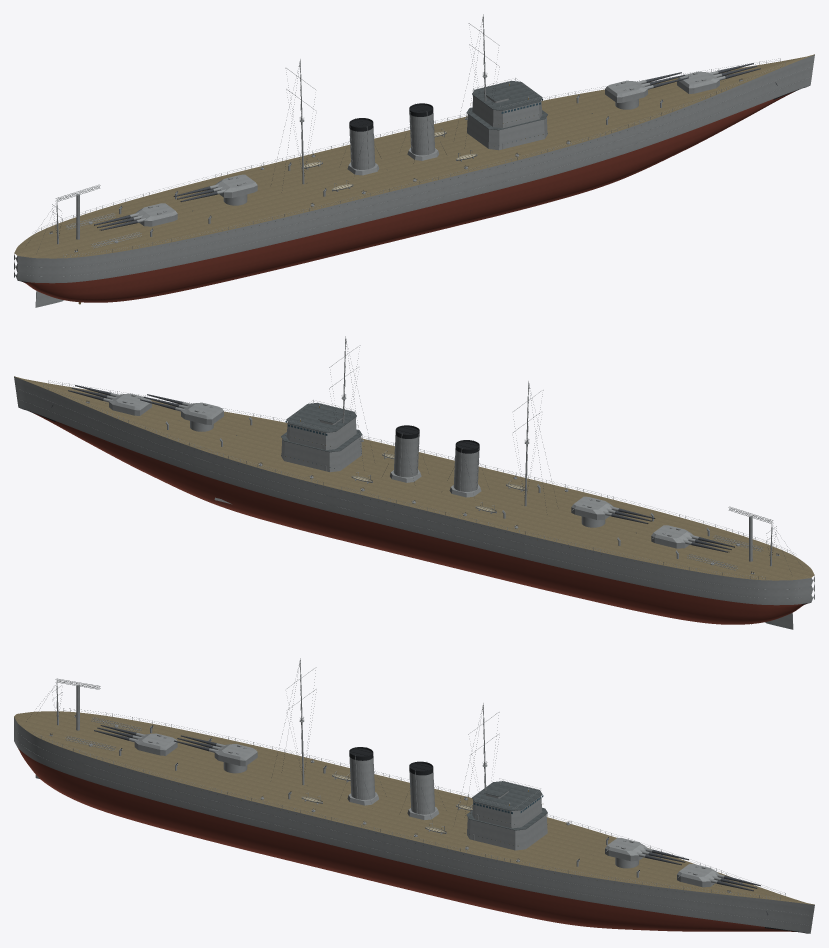
The model's file is missouri_bb23.glb.
3 views of the same model, one above another, from view 1: azimuth 30°, elevation 25°; view 2: azimuth 150°, elevation 25°; view 3: azimuth 330°, elevation 25° (orthographic).
Visible parts, largest first — view 1: Missouri class; view 2: Missouri class; view 3: Missouri class.
Part boxes in pixels (x1,y1,x2,y2): Missouri class: (14, 14, 814, 307); Missouri class: (14, 336, 814, 629); Missouri class: (14, 658, 814, 933).
Bounding box in the file's own units: 262 × 58.64 × 33.29.
9 materials, 8 textured.
